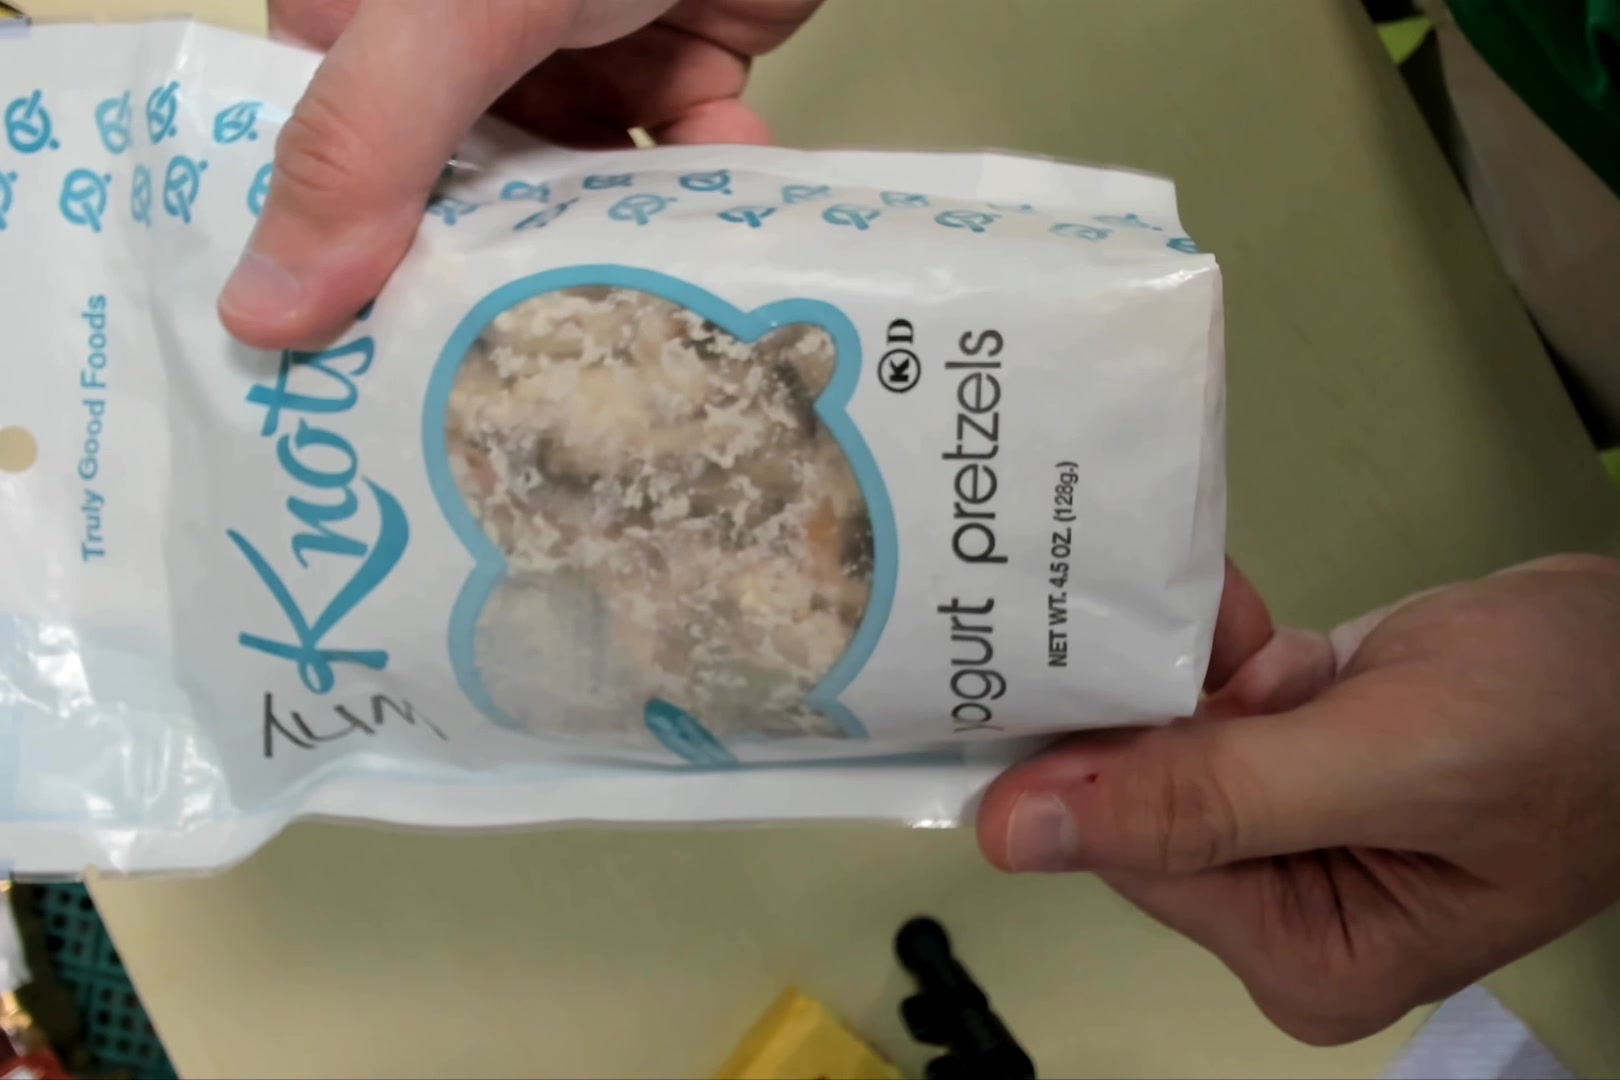SweetsChocolatesOthers_100-199g_NonHalal_NonHealthy: (8, 29, 1220, 853)
